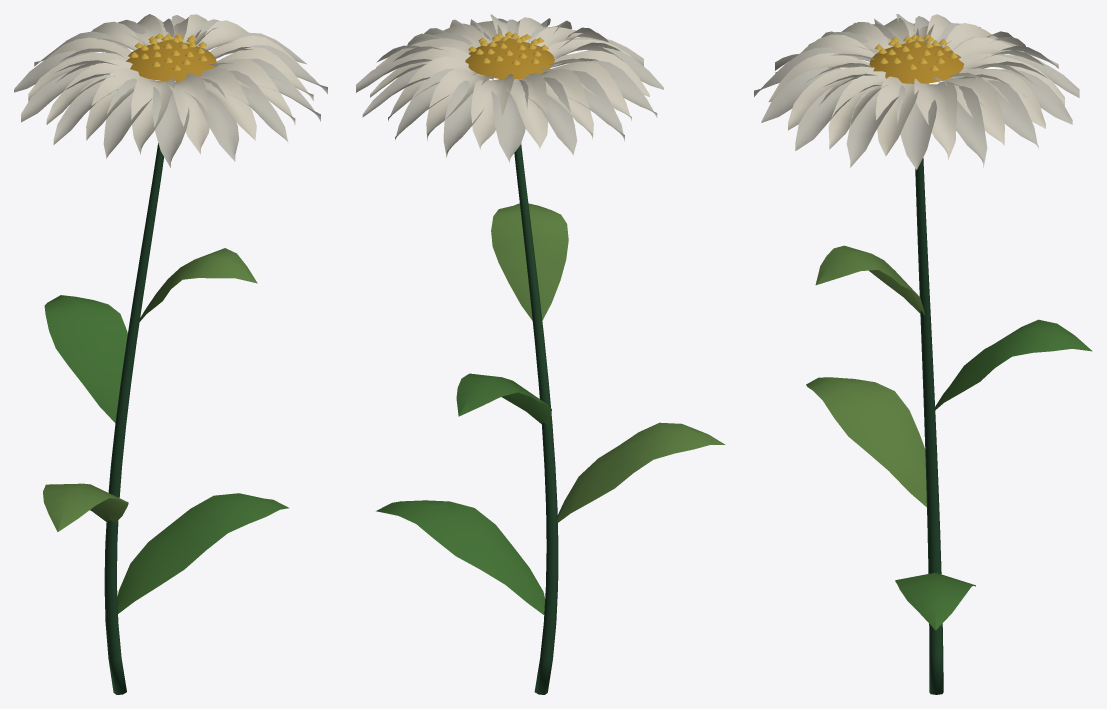
File: meadow_daisy.hi.glb
3 renders of one model, left to right at view 1: azimuth 30°, elevation 25°; view 2: azimuth 150°, elevation 25°; view 3: azimuth 270°, elevation 25°, orthographic. The views are drawn at different scales.
Visible parts, largest first — view 1: body; view 2: body; view 3: body.
Boxes of the visible parts, <box> form: body: <box>14,14,327,694</box>; body: <box>356,14,725,694</box>; body: <box>754,14,1092,694</box>.
Size of the model in its own units: 0.222 by 0.4555 by 0.207.
